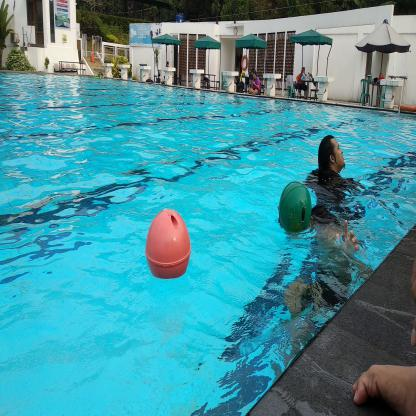green_buoy: (276, 178, 314, 238)
red_buoy: (144, 205, 194, 283)
